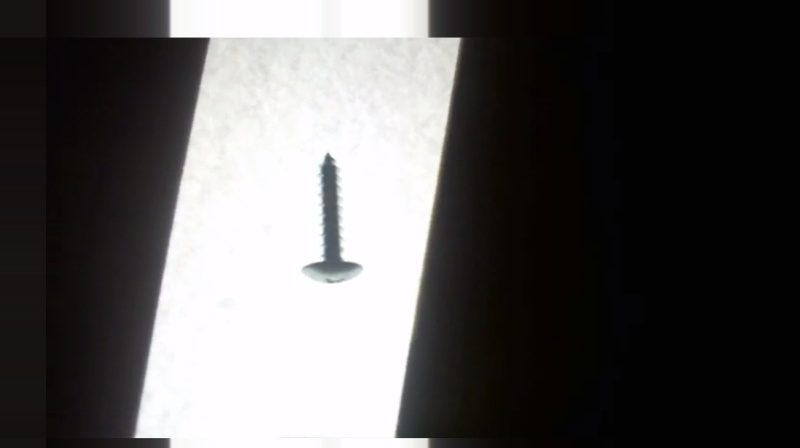S003: (297, 150, 367, 289)
